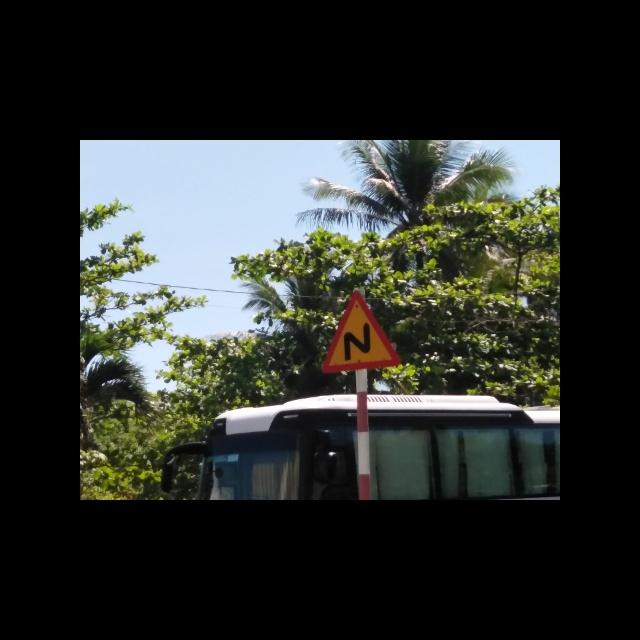Ngoặt nguy hiểm liên tiếp bên phải: (322, 288, 400, 374)
